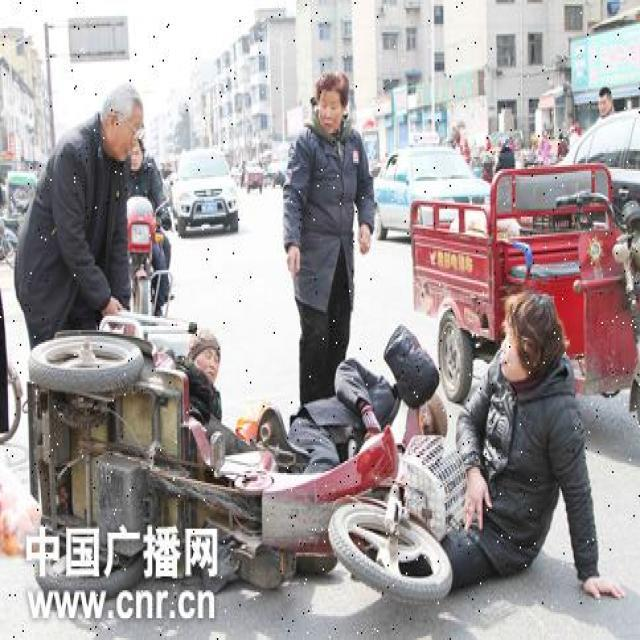fall: (145, 305, 399, 599), (401, 290, 619, 586)
